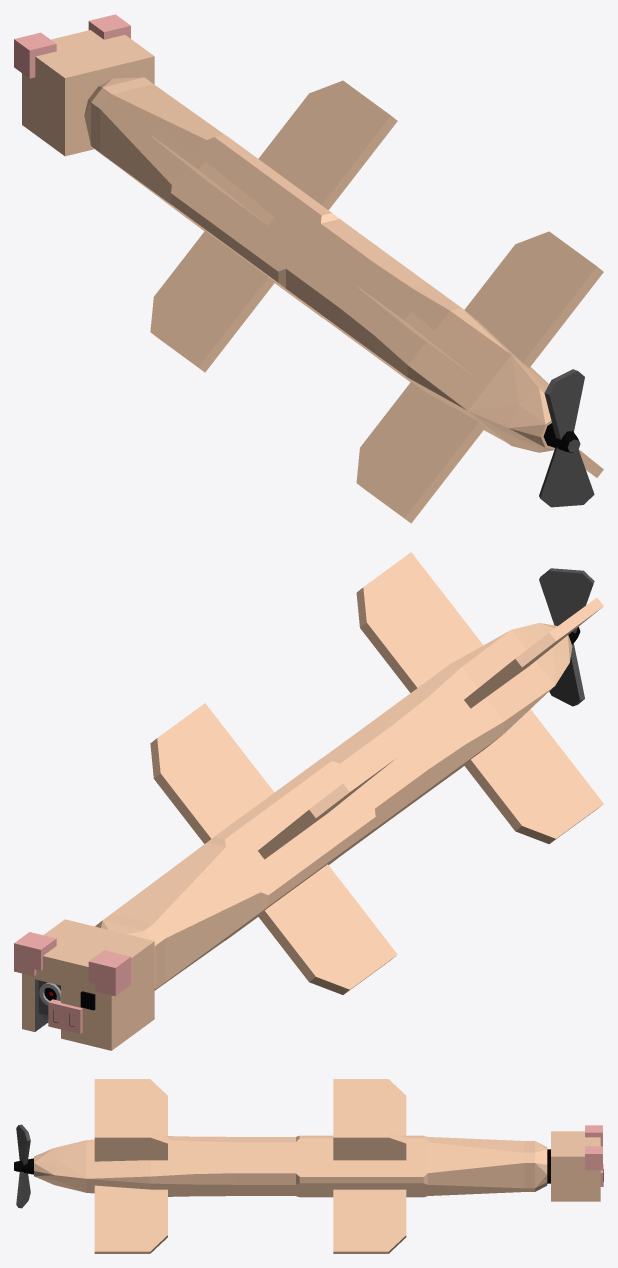
Rendered from PIG.obj.
3 views of the same model, one above another, from view 1: azimuth 30°, elevation 25°; view 2: azimuth 150°, elevation 25°; view 3: azimuth 270°, elevation 25° (orthographic). The views are drawn at different scales.
Parts seen in each view (by area): view 1: pig; view 2: pig; view 3: pig.
Boxes of the visible parts, x1,y1,x2,y2 form: pig: [14, 14, 603, 523]; pig: [14, 552, 603, 1050]; pig: [14, 1079, 603, 1253].
Size of the model in its own units: 0.8343 by 0.8463 by 3.69.
Materials: 1 (1 with a texture image).
